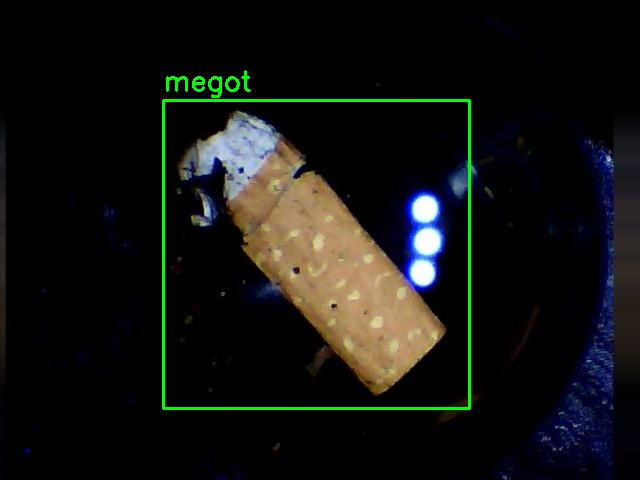megot: (163, 100, 469, 408)
